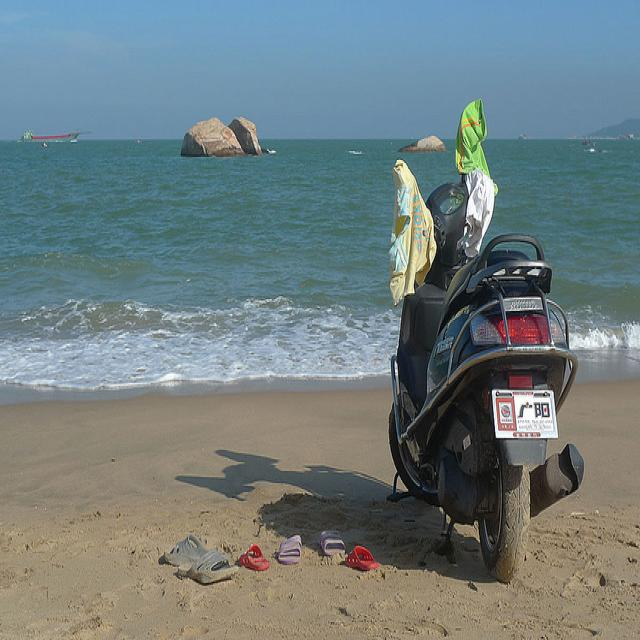motor: (389, 104, 587, 582)
